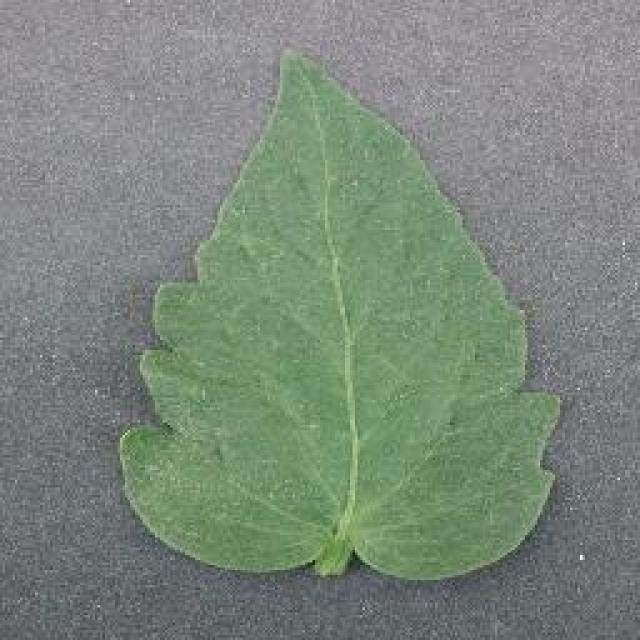Tomato healthy leaf: (116, 44, 562, 586)
